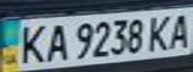2: (90, 17, 115, 59)
3: (109, 16, 133, 56)
8: (127, 15, 151, 55)
9: (69, 19, 93, 61)
A: (42, 20, 72, 63), (163, 9, 193, 50)
K: (12, 21, 48, 65), (145, 11, 178, 52)
